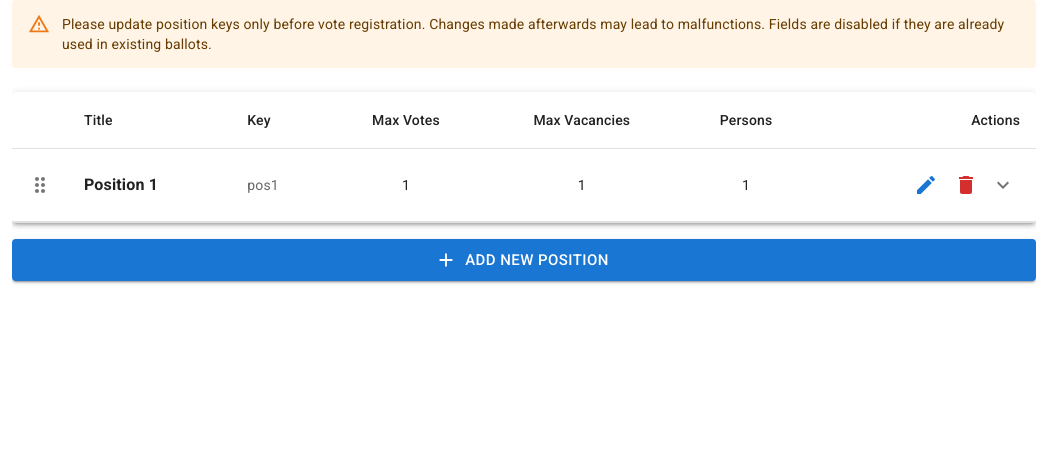
Positions › expands position to show persons
Click the button named "expand row" at (1003, 185), box [986,165,1020,205]
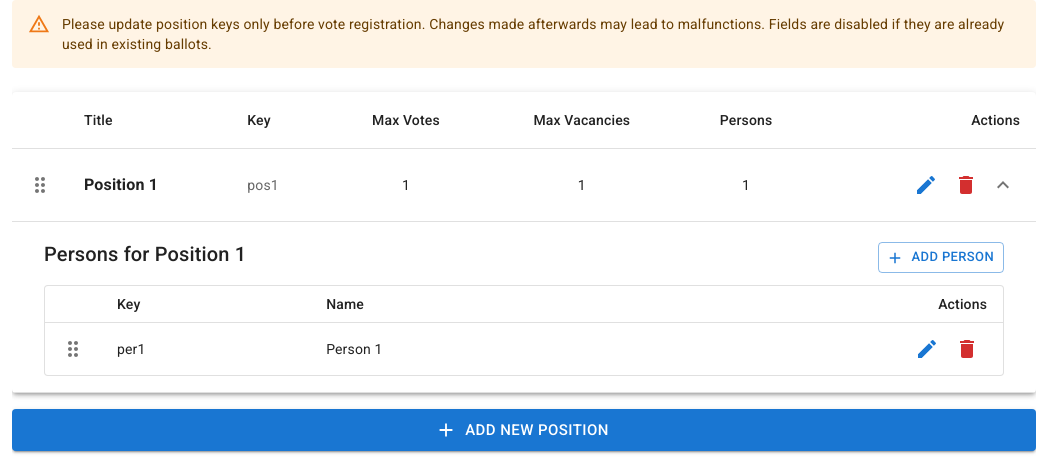
Check: the text "Persons for Position 1" is shown, box [44,238,246,270]
Check: the text "Person 1" is shown, box [326,341,383,357]
Check: the text "per1" is shown, box [117,341,146,357]
